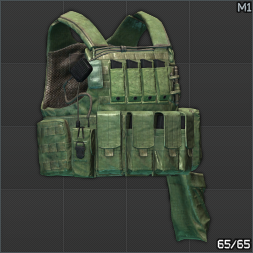ANA Tactical M1 armored rig: (0, 0, 253, 253)
